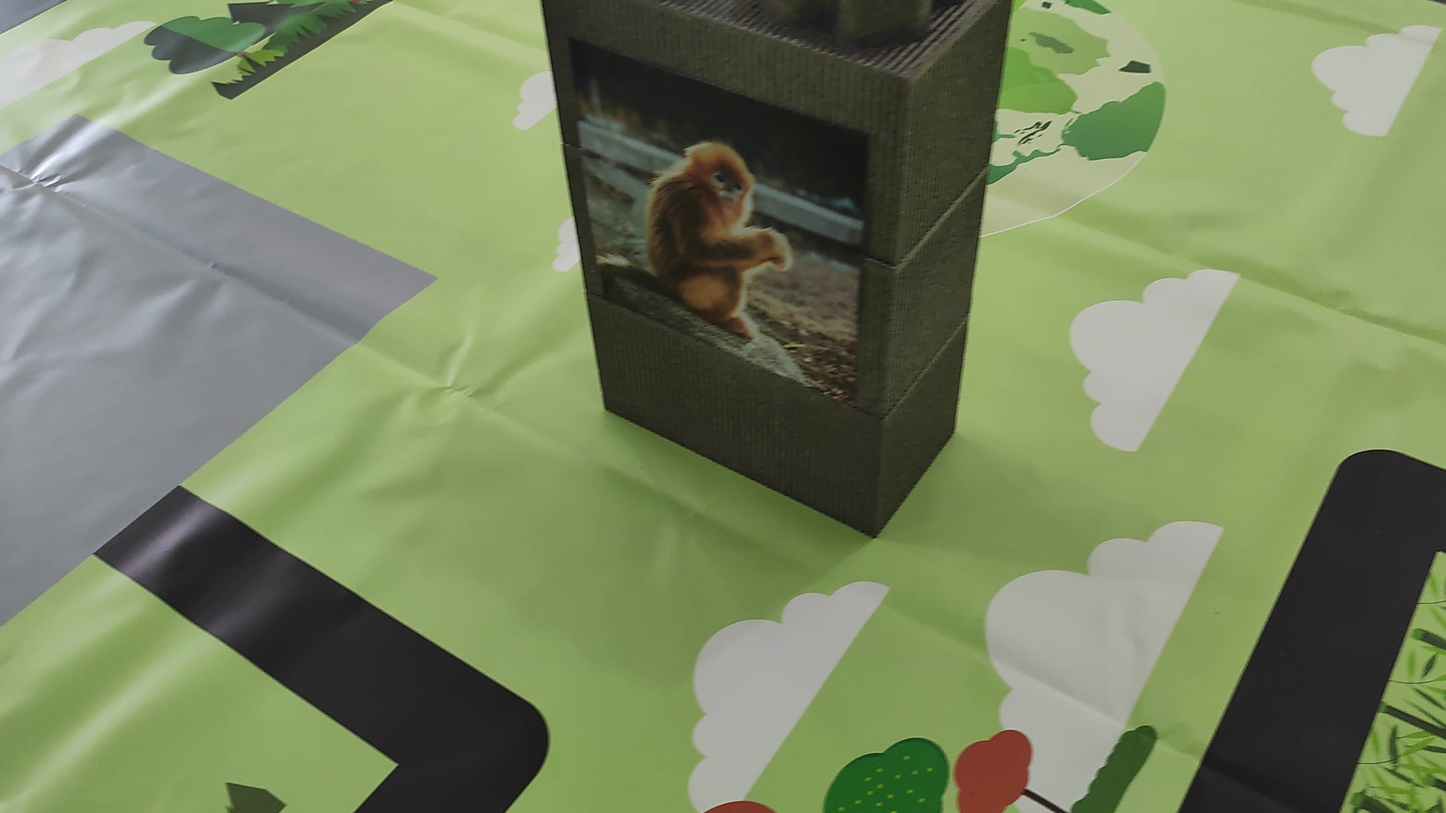monkey: (594, 99, 853, 351)
